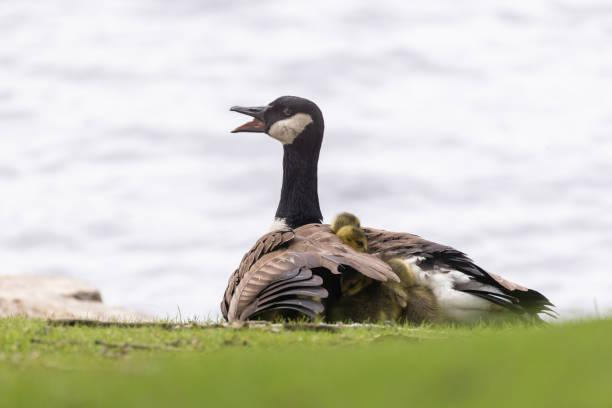Canadian-Goose: (214, 94, 556, 324)
